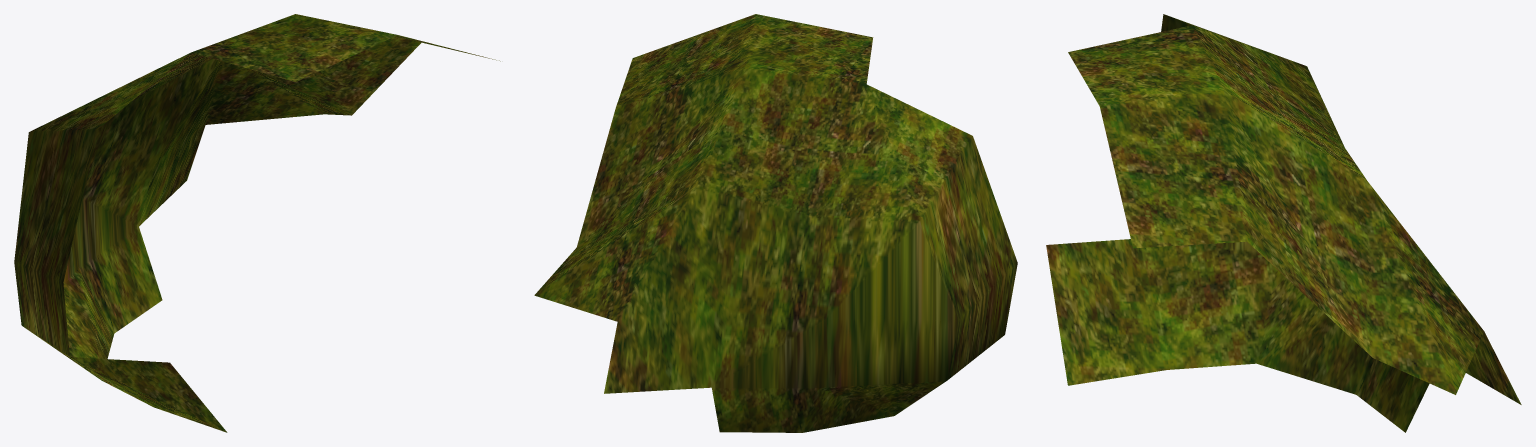
The model's file is TROLLHOLE02_BOX328.fbx.
The picture shows the model from 3 angles, left to right: view 1: azimuth 30°, elevation 25°; view 2: azimuth 150°, elevation 25°; view 3: azimuth 270°, elevation 25°; orthographic projection. The views are drawn at different scales.
Parts seen in each view (by area): view 1: TROLLHOLE02_BOX328; view 2: TROLLHOLE02_BOX328; view 3: TROLLHOLE02_BOX328.
Boxes of the visible parts, <box> form: TROLLHOLE02_BOX328: <box>14,14,500,432</box>; TROLLHOLE02_BOX328: <box>534,14,1017,432</box>; TROLLHOLE02_BOX328: <box>1046,14,1521,432</box>.
Bounding box in the file's own units: 63088 × 47304 × 53761.
Materials: 1 (1 with a texture image).
